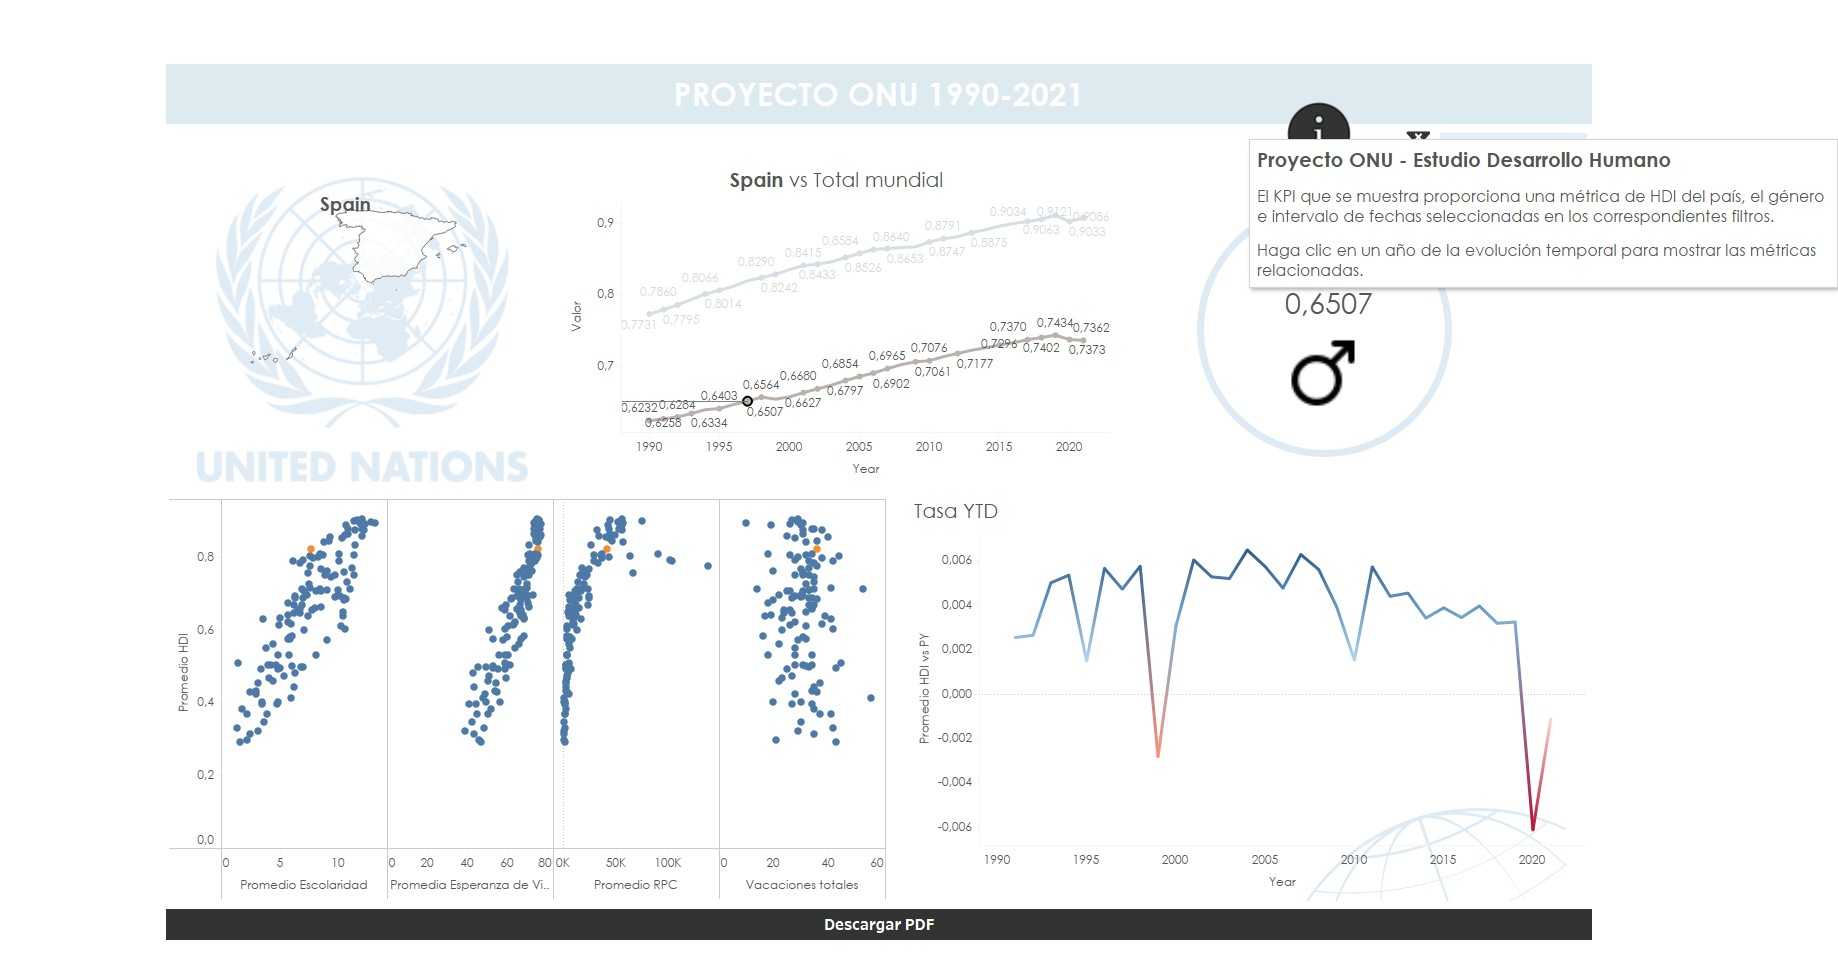

This screenshot's page, from the dashboard's own definition file:
{"tool":"tableau","page":{"name":"Dashboard 1","canvas":[1450,900],"ordinal":0},"visuals":[{"type":"text","box":[8,8,1434,68]},{"type":"worksheet","title":"Info Icon","mark":"Shape","box":[1071,15,188,133]},{"type":"image","param":"Image/Fondo ONU.PNG","box":[8,76,1434,777]},{"type":"dashboard-object","box":[1252,79,24,24]},{"type":"filter","title":"Comparativa HDI","param":"[federated.0ggh8w21sriomc1963upj1l6226g].[none:Gender:nk]","box":[1286,81,147,49]},{"type":"worksheet","title":"Comparativa HDI","mark":"Automatic","cols":["Year"],"box":[408,111,549,320]},{"type":"worksheet","title":"Country name","mark":"Automatic","box":[23,124,338,57]},{"type":"parameter","param":"[Parameters].[Parámetro 4]","box":[1286,130,147,49]},{"type":"worksheet","title":"Country Icon","mark":"Multipolygon","box":[55,140,299,188]},{"type":"worksheet","title":"KPI","mark":"Automatic","box":[1070,164,212,137]},{"type":"worksheet","title":"Gender Icon","mark":"Shape","box":[1107,280,132,137]},{"type":"worksheet","title":"Tasa YTD","mark":"Automatic","rows":["Calculation_590534538247786501"],"cols":["Year"],"box":[756,443,676,401]},{"type":"worksheet","title":"Dispersion multiple","mark":"Circle","rows":["Calculation_590534538243989504"],"cols":["Calculation_590534538244575235","Calculation_590534538244415489","Calculation_590534538244501506","Calculation_590534538244653060"],"box":[15,447,717,401]},{"type":"dashboard-object","box":[8,853,1434,39]}]}

Visuals, with their boxes on the page's 1450x900 design canvas (x1, y1, x2, y2). These are canvas units, not pixel positions in the 1838x967 screenshot, which may show the page scaled, cropped or inside an application window:
text: (8,8,1442,76)
"Info Icon" worksheet (Shape marks): (1071,15,1259,148)
image: (8,76,1442,853)
dashboard-object: (1252,79,1276,103)
"Comparativa HDI" filter: (1286,81,1433,130)
"Comparativa HDI" worksheet: (408,111,957,431)
"Country name" worksheet: (23,124,361,181)
parameter: (1286,130,1433,179)
"Country Icon" worksheet (Multipolygon marks): (55,140,354,328)
"KPI" worksheet: (1070,164,1282,301)
"Gender Icon" worksheet (Shape marks): (1107,280,1239,417)
"Tasa YTD" worksheet: (756,443,1432,844)
"Dispersion multiple" worksheet (Circle marks): (15,447,732,848)
dashboard-object: (8,853,1442,892)
